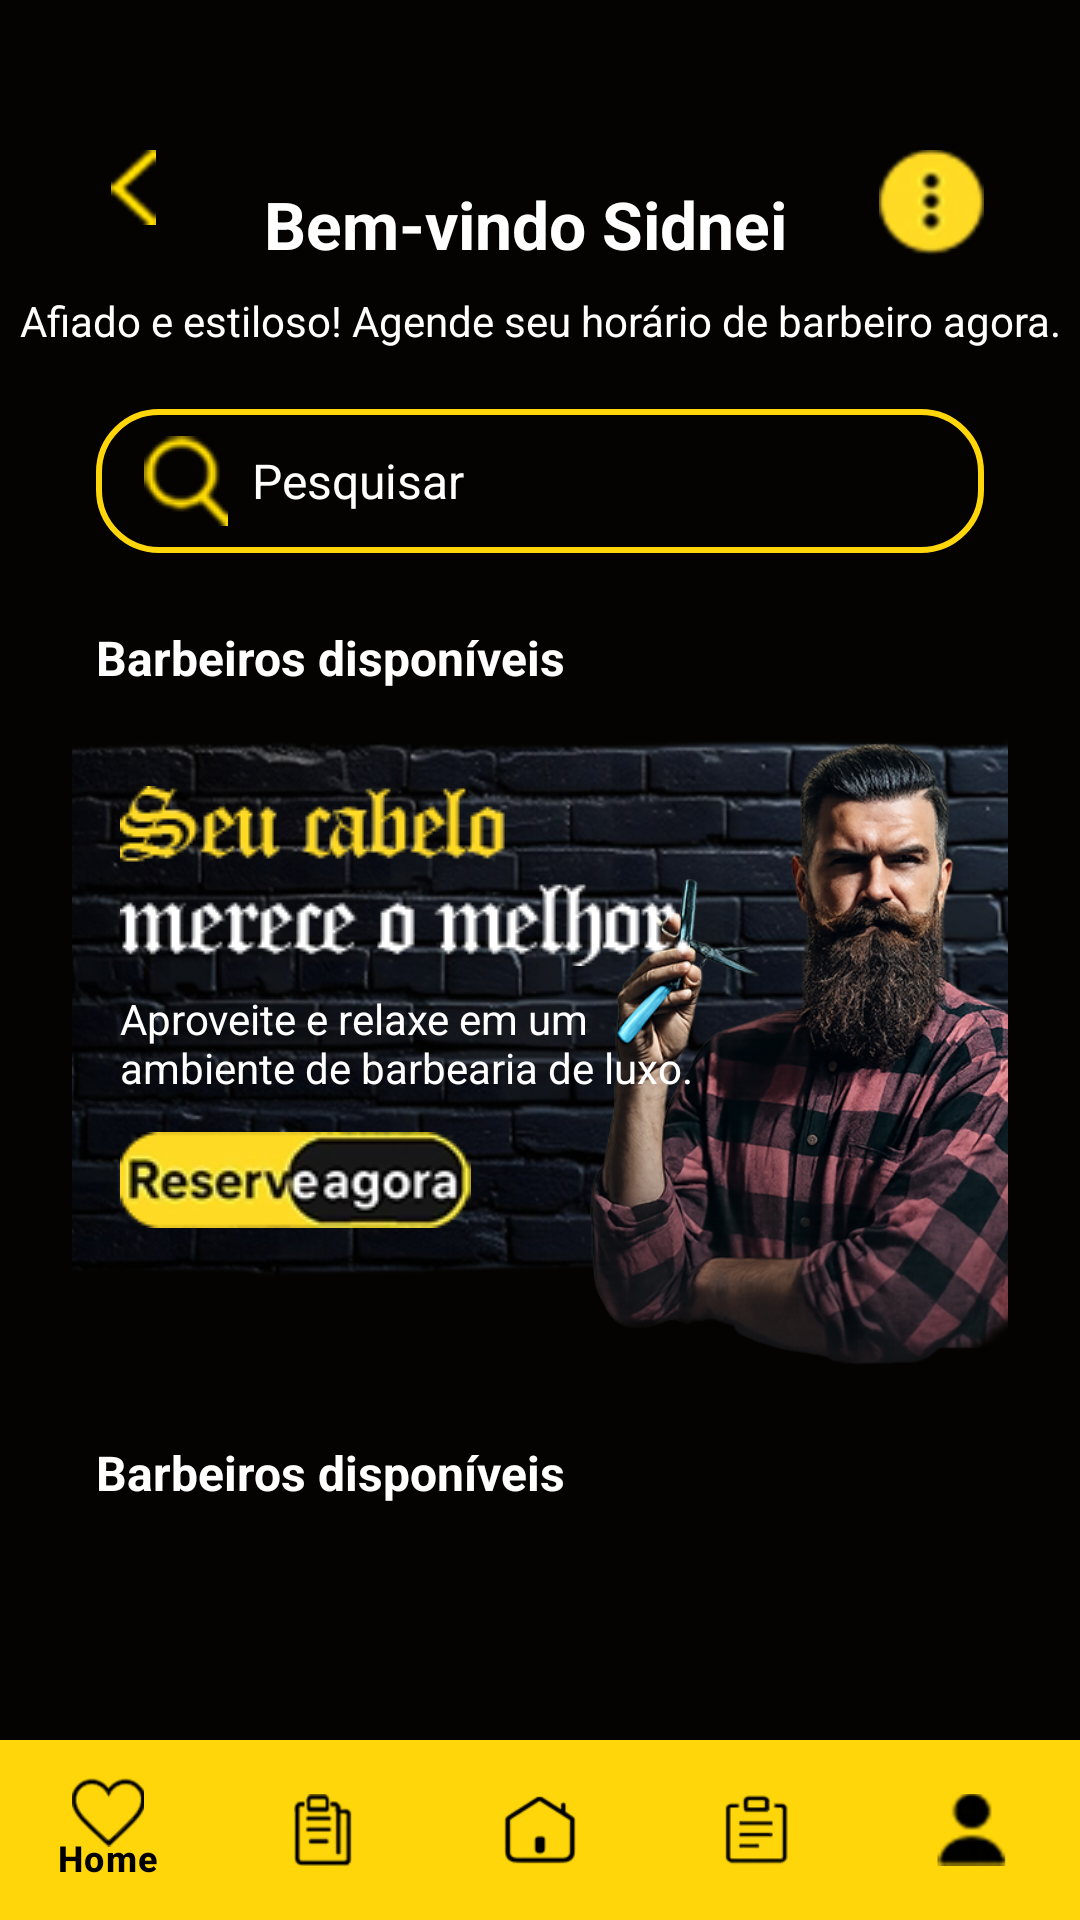

Screen size 1080 × 1920. Icon name, then its center in pixels as point (x, y):
menu: point (931, 202)
retornar: point (133, 187)
